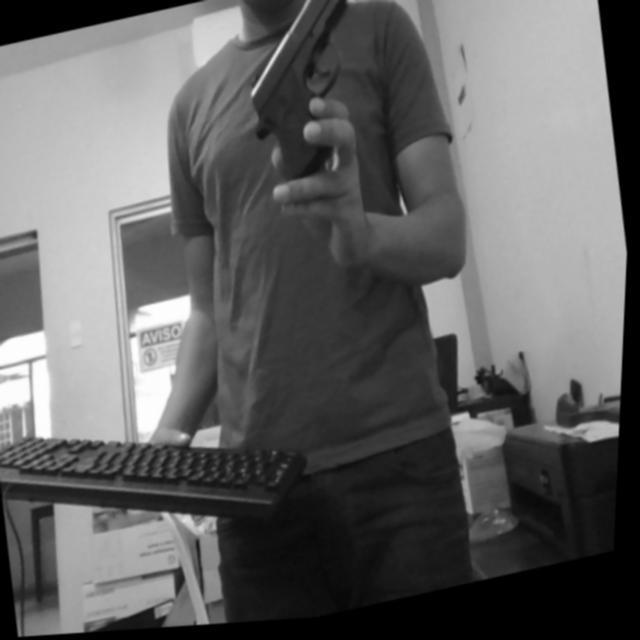weapon: (230, 0, 381, 194)
